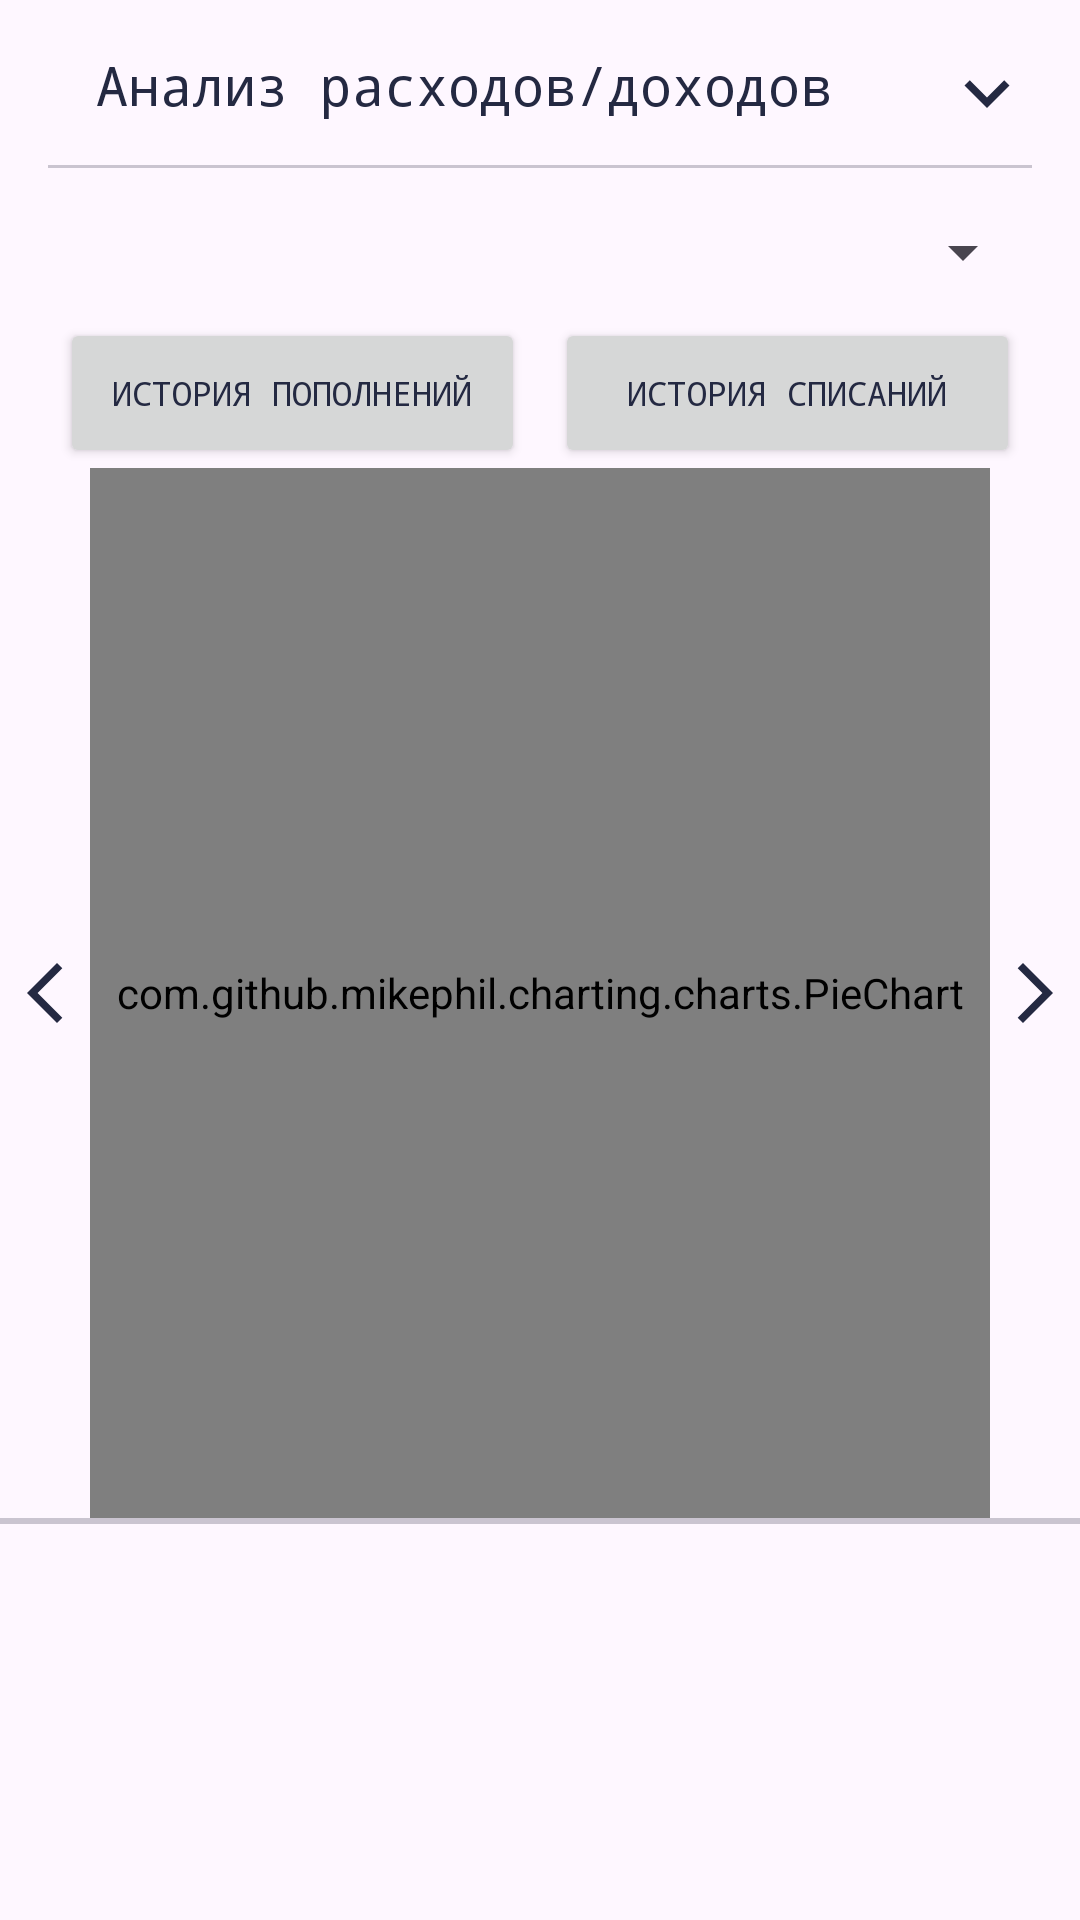

Icons on this 1080 × 1920 Android screen, each with the point to tap as [x,y]:
aarrow down: [987,94]
